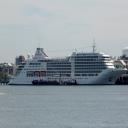cruises: (9, 43, 127, 89)
